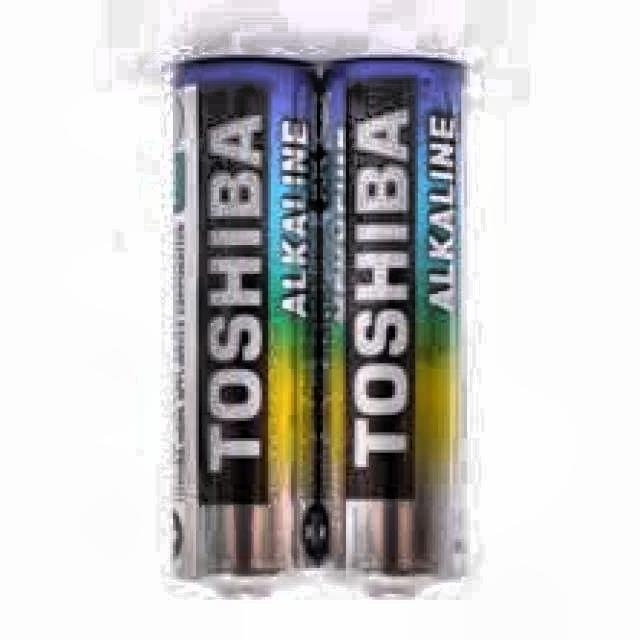battery: (173, 60, 464, 597)
